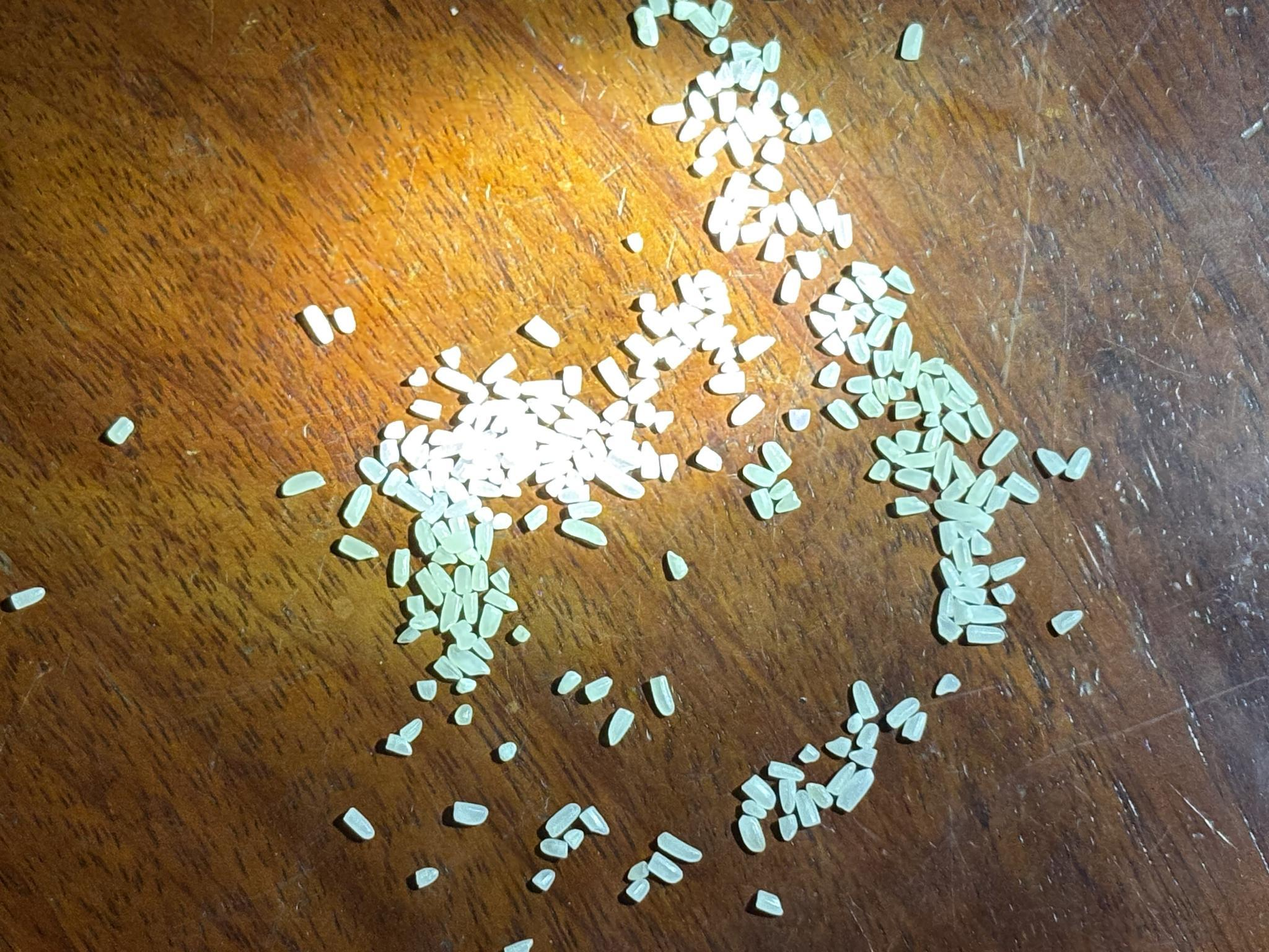Rice-th-y-nh: (934, 491, 995, 539), (593, 455, 646, 505), (835, 766, 876, 815), (671, 0, 720, 41), (656, 826, 703, 868), (518, 372, 569, 410), (445, 641, 492, 682), (788, 188, 826, 238), (560, 513, 608, 552), (885, 320, 919, 374), (529, 419, 577, 456), (980, 426, 1019, 471), (722, 120, 757, 170), (941, 361, 979, 407), (595, 354, 632, 400), (543, 799, 582, 842), (280, 465, 325, 502), (341, 482, 376, 529), (336, 529, 380, 566), (927, 439, 959, 489), (630, 2, 664, 49), (301, 302, 337, 346), (646, 848, 685, 888), (1002, 469, 1041, 508), (729, 390, 766, 431), (524, 312, 562, 351), (963, 467, 999, 508), (666, 309, 702, 350), (734, 813, 769, 855), (733, 104, 767, 147), (603, 705, 637, 748), (481, 391, 528, 422), (645, 673, 678, 717), (481, 350, 518, 389), (849, 679, 882, 722), (911, 372, 943, 415), (398, 422, 430, 465), (738, 329, 776, 365), (989, 550, 1027, 586), (873, 433, 909, 471), (459, 426, 497, 462), (939, 408, 974, 447), (563, 397, 603, 431), (412, 566, 445, 607), (675, 272, 708, 313), (452, 796, 489, 832), (740, 775, 777, 811), (624, 330, 659, 368), (395, 481, 434, 515), (750, 99, 784, 138), (760, 438, 794, 477), (965, 619, 1006, 651), (434, 365, 476, 396), (506, 451, 542, 487), (702, 319, 738, 355), (824, 760, 857, 799), (862, 311, 894, 351), (435, 590, 464, 634), (792, 789, 823, 830), (742, 458, 778, 493), (885, 695, 921, 730), (708, 367, 747, 399), (443, 491, 482, 523), (897, 22, 928, 62), (967, 598, 1007, 629), (705, 194, 735, 235), (825, 398, 861, 432), (1035, 443, 1069, 479), (1049, 604, 1084, 638), (636, 440, 665, 481), (475, 602, 506, 640), (1062, 445, 1093, 483), (805, 106, 835, 145), (897, 444, 936, 474), (342, 806, 376, 840), (626, 374, 659, 409), (793, 245, 825, 281), (898, 351, 926, 392), (387, 547, 415, 588), (470, 521, 498, 562), (425, 559, 456, 596), (965, 403, 996, 440), (776, 268, 806, 306), (737, 56, 767, 94), (767, 756, 805, 786), (948, 536, 977, 575), (894, 465, 933, 494), (356, 453, 389, 487), (652, 98, 687, 130), (753, 161, 785, 196), (526, 395, 561, 427), (854, 271, 889, 303), (702, 280, 734, 315), (697, 125, 728, 161), (894, 490, 930, 521), (734, 182, 770, 213), (504, 409, 540, 440), (534, 456, 571, 486), (425, 454, 455, 491), (773, 200, 802, 238), (933, 518, 962, 556), (949, 453, 978, 491), (482, 586, 520, 615), (578, 805, 611, 838), (721, 168, 752, 203), (754, 885, 785, 920), (844, 330, 873, 367), (814, 196, 843, 233), (411, 518, 439, 556), (639, 308, 672, 340), (759, 134, 790, 168), (583, 672, 614, 706), (899, 710, 930, 744), (566, 496, 603, 524), (831, 212, 858, 250), (773, 778, 800, 816), (883, 265, 916, 296), (433, 652, 464, 685), (686, 89, 716, 123), (982, 483, 1012, 517), (805, 779, 835, 813), (380, 465, 410, 499), (760, 231, 789, 266), (581, 429, 610, 464), (949, 582, 988, 608), (714, 87, 741, 124), (834, 276, 866, 307), (407, 466, 437, 499), (808, 308, 838, 341), (934, 612, 964, 645), (748, 487, 777, 521), (570, 447, 598, 482), (872, 294, 907, 322), (429, 424, 466, 450), (662, 342, 693, 373), (694, 309, 725, 340), (694, 442, 724, 474), (869, 347, 898, 380), (694, 68, 723, 101), (410, 394, 443, 423), (937, 556, 965, 590), (467, 474, 501, 502), (559, 363, 586, 398), (758, 39, 784, 75), (740, 218, 771, 248), (893, 425, 923, 456), (539, 833, 570, 863), (446, 516, 476, 547), (856, 390, 885, 422), (729, 36, 761, 65), (429, 437, 466, 462), (716, 221, 744, 254), (331, 303, 359, 336), (850, 255, 883, 283), (400, 442, 433, 470), (467, 559, 494, 593), (535, 441, 570, 467), (651, 332, 681, 362), (384, 730, 414, 760), (677, 114, 706, 145), (692, 264, 723, 293), (832, 308, 859, 341), (948, 595, 975, 628), (459, 591, 484, 626), (962, 561, 991, 591), (601, 397, 630, 427), (854, 720, 882, 751), (755, 77, 782, 109), (553, 416, 589, 440), (664, 550, 691, 582), (9, 586, 45, 610), (449, 563, 475, 596), (377, 436, 403, 469), (430, 519, 456, 552), (849, 298, 877, 328), (522, 503, 549, 534), (656, 451, 682, 483), (557, 483, 590, 508), (818, 289, 847, 317), (934, 670, 962, 699), (967, 530, 995, 559), (443, 476, 471, 505), (893, 398, 923, 425), (848, 744, 878, 771), (493, 375, 523, 402), (445, 530, 475, 557), (817, 359, 843, 390), (775, 812, 801, 843), (409, 609, 440, 635), (939, 477, 967, 505), (990, 580, 1018, 608), (709, 0, 736, 29), (845, 370, 874, 397), (788, 118, 815, 147), (824, 733, 853, 760), (459, 459, 488, 486), (821, 330, 847, 360), (787, 404, 813, 434), (605, 431, 635, 457), (921, 425, 946, 456), (774, 490, 802, 517), (942, 388, 969, 416), (530, 866, 557, 894), (725, 199, 751, 228), (413, 863, 439, 892), (488, 566, 514, 595), (869, 376, 893, 407), (107, 417, 134, 444), (633, 400, 659, 428), (609, 416, 637, 442), (398, 716, 424, 744), (692, 152, 718, 180), (712, 339, 738, 367), (449, 618, 475, 646), (430, 544, 459, 569), (931, 374, 954, 405), (625, 877, 651, 904), (556, 669, 582, 696), (868, 456, 893, 484), (677, 300, 705, 325), (740, 797, 768, 822), (472, 447, 500, 472), (935, 587, 957, 618), (458, 400, 484, 426), (421, 500, 447, 526), (769, 477, 794, 504), (439, 344, 464, 371), (713, 61, 736, 90), (470, 636, 495, 662), (920, 354, 946, 379), (626, 858, 651, 884), (561, 466, 586, 492), (651, 408, 675, 435), (757, 201, 781, 228), (466, 379, 490, 406), (415, 676, 439, 703), (451, 420, 475, 447), (471, 405, 494, 433), (383, 417, 408, 442), (544, 473, 568, 499), (404, 592, 427, 619), (563, 826, 586, 853), (501, 934, 535, 952), (884, 376, 907, 402), (452, 701, 475, 727), (779, 90, 801, 117), (456, 545, 481, 568), (726, 58, 748, 84), (642, 0, 673, 18), (798, 742, 821, 766), (407, 365, 430, 389), (498, 478, 523, 500), (709, 33, 731, 58), (496, 739, 518, 764), (635, 361, 661, 382), (396, 625, 422, 645), (455, 630, 478, 652), (637, 290, 659, 313), (454, 675, 478, 696), (720, 356, 743, 377), (474, 503, 495, 526), (511, 623, 532, 646), (845, 711, 865, 735), (492, 511, 513, 533), (626, 230, 646, 253), (921, 410, 942, 431), (487, 465, 507, 486), (499, 452, 521, 471), (784, 111, 803, 130), (597, 419, 613, 437)
